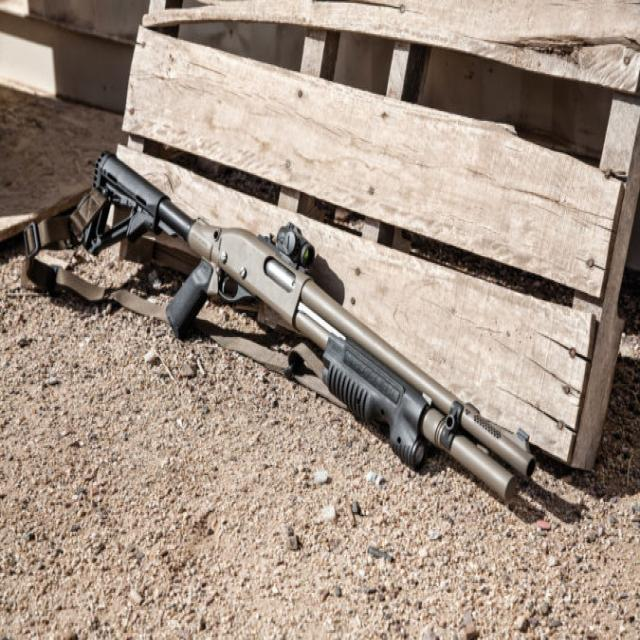ShotGun: (82, 154, 533, 503)
